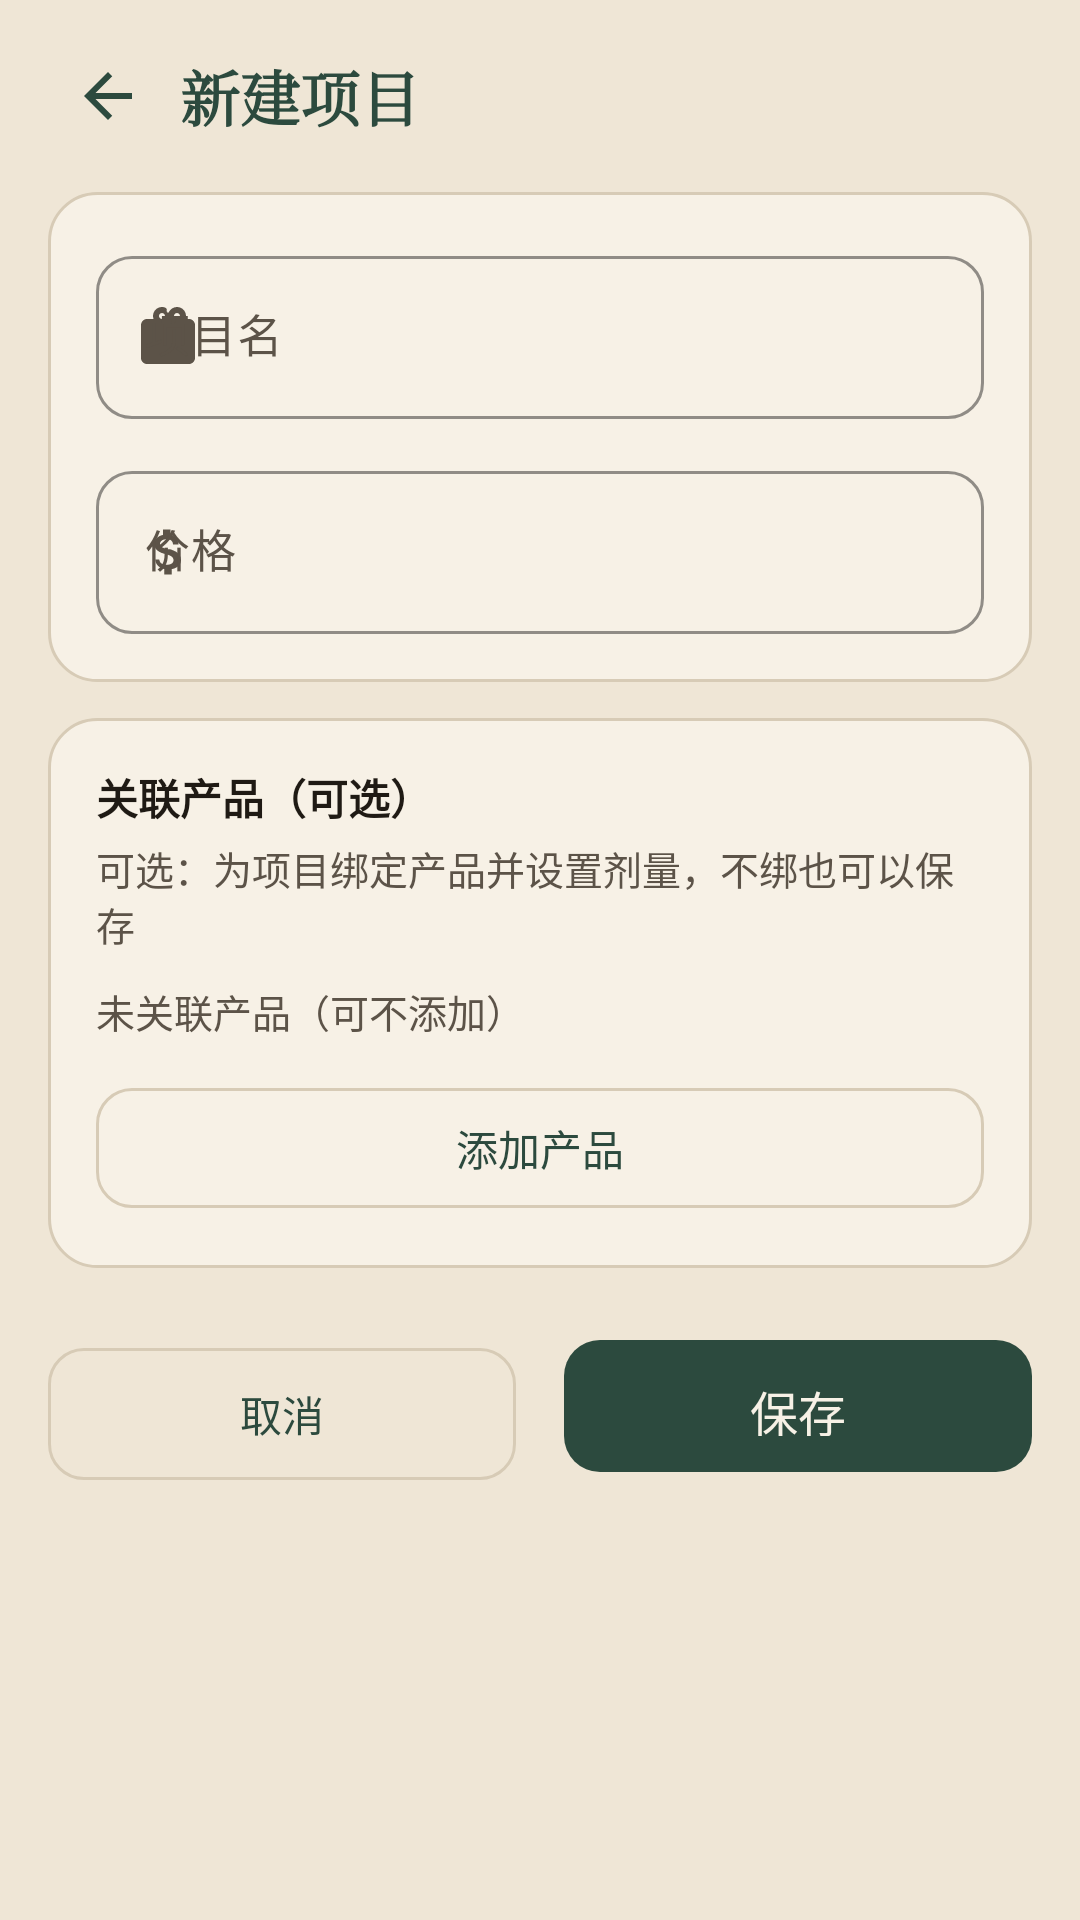

Named icons in this screenshot (1080×1920) and their bounding boxes, (x1, y1, x2, y2):
返回: (84, 72, 132, 120)
